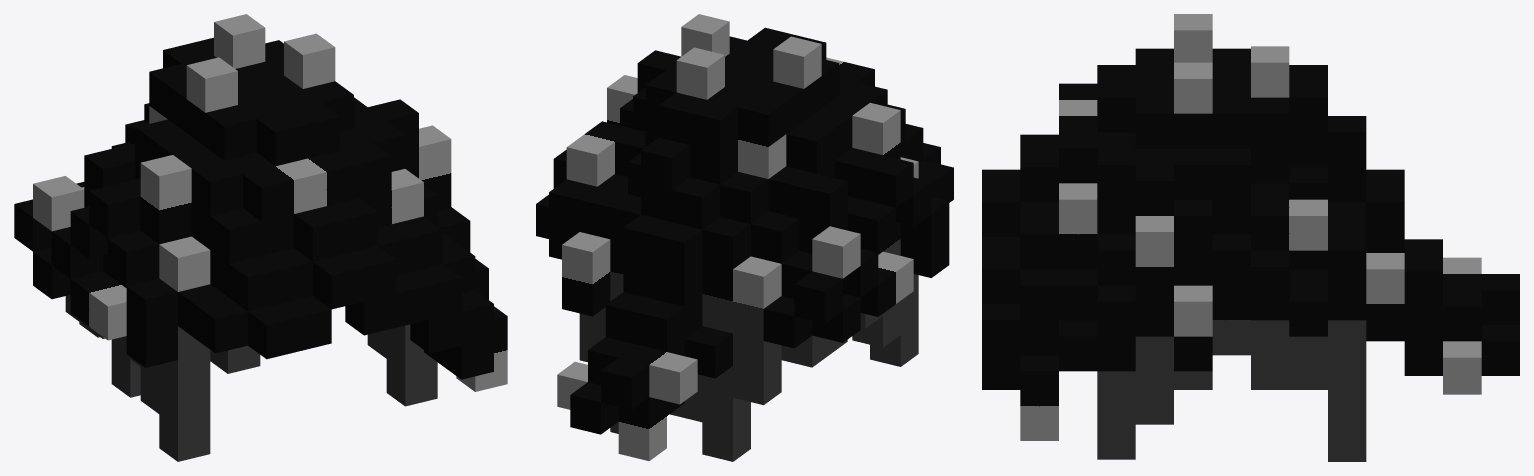
File: wlos3_v2.dae
3 renders of one model, left to right at view 1: azimuth 30°, elevation 25°; view 2: azimuth 150°, elevation 25°; view 3: azimuth 270°, elevation 25°, orthographic. The views are drawn at different scales.
Visible parts, largest first — view 1: Content.001; view 2: Content.001; view 3: Content.001.
Boxes of the visible parts, box(x1,y1,x2,y2) form: Content.001: box(14, 14, 507, 461); Content.001: box(536, 14, 953, 461); Content.001: box(982, 14, 1519, 461).
Size of the model in its own units: 10.39 by 14.55 by 11.43.
1 material, 1 textured.
